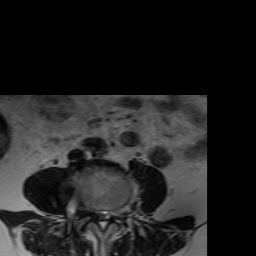CCS_normal: (98, 205, 105, 236)
LFS_normal: (111, 201, 118, 223)
LLS_stenosis: (105, 205, 111, 229)
RFS_severe_stenosis: (85, 199, 92, 220)
RLS_severe_stenosis: (92, 203, 98, 224)
